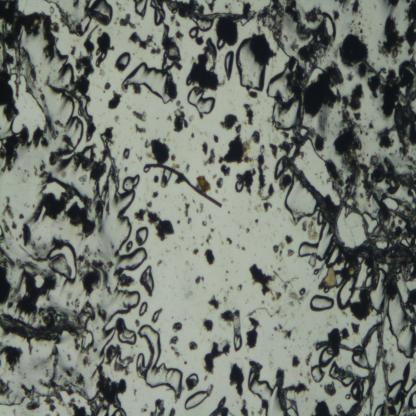Air bubble: (135, 323, 182, 397), (6, 70, 49, 144), (99, 281, 144, 336), (283, 175, 321, 226), (389, 291, 416, 360), (244, 370, 284, 416), (125, 62, 170, 102), (234, 37, 265, 93), (47, 240, 81, 284), (116, 189, 139, 253), (109, 247, 153, 278), (298, 224, 332, 261), (56, 6, 92, 36), (186, 86, 216, 119), (266, 69, 294, 103), (270, 99, 301, 128), (48, 46, 74, 80), (369, 270, 388, 310), (337, 277, 355, 310), (89, 2, 113, 26), (39, 180, 66, 200), (307, 294, 334, 314), (387, 376, 403, 408), (140, 265, 156, 296), (183, 390, 208, 409), (360, 212, 378, 233), (63, 193, 84, 211), (119, 324, 136, 346), (306, 66, 323, 87), (224, 50, 235, 82), (80, 327, 93, 353), (326, 246, 340, 268), (115, 51, 131, 70), (381, 196, 400, 212), (122, 175, 141, 191), (318, 348, 332, 368), (272, 155, 282, 182), (352, 352, 367, 370), (133, 0, 148, 17), (311, 365, 325, 383), (136, 226, 148, 246), (32, 273, 46, 289), (324, 16, 335, 36), (197, 19, 212, 33), (162, 55, 174, 72), (286, 396, 297, 414), (297, 124, 310, 138), (138, 300, 148, 317), (233, 334, 242, 351), (153, 6, 161, 24), (233, 180, 243, 194), (215, 36, 225, 50), (151, 309, 161, 323), (341, 375, 353, 386), (83, 146, 92, 160), (189, 28, 199, 40), (162, 167, 172, 178), (188, 373, 198, 384), (125, 241, 133, 252), (298, 287, 306, 296), (143, 165, 150, 173), (314, 268, 320, 275), (345, 394, 352, 400)
Background material: (339, 200, 416, 297), (371, 61, 416, 154), (326, 112, 368, 211), (285, 2, 331, 63), (0, 0, 43, 65), (376, 0, 416, 59), (301, 64, 343, 119), (185, 37, 223, 93), (370, 154, 416, 198), (75, 244, 113, 297), (36, 356, 74, 406), (15, 274, 56, 320), (218, 124, 262, 164), (93, 363, 128, 409), (340, 30, 372, 80), (0, 124, 31, 172), (73, 143, 107, 186), (75, 35, 97, 97), (99, 124, 119, 192), (40, 6, 64, 61), (29, 192, 68, 224), (66, 201, 96, 240), (258, 1, 285, 44), (256, 144, 276, 202), (160, 23, 184, 69), (203, 339, 232, 375), (0, 66, 18, 123), (0, 247, 16, 306), (92, 186, 112, 233), (145, 209, 175, 240), (96, 27, 114, 77), (104, 344, 133, 375), (350, 286, 374, 322), (165, 0, 205, 21), (249, 264, 275, 296), (47, 144, 72, 175), (73, 299, 95, 334), (216, 14, 240, 46), (0, 342, 23, 375), (340, 81, 364, 111), (19, 45, 37, 83), (147, 136, 170, 164), (372, 124, 394, 153), (15, 258, 46, 278), (234, 168, 256, 196), (271, 131, 293, 158), (273, 233, 294, 260), (20, 384, 41, 411), (273, 269, 298, 291), (48, 253, 70, 278), (244, 317, 260, 351), (127, 30, 154, 50), (207, 396, 234, 416), (318, 266, 337, 294), (30, 236, 49, 263), (229, 363, 244, 397), (275, 366, 287, 408), (89, 392, 110, 416), (32, 160, 53, 184), (113, 267, 135, 289), (162, 71, 178, 101), (302, 3, 324, 24), (62, 12, 83, 33), (272, 323, 296, 341), (247, 306, 282, 318), (281, 382, 310, 396), (31, 354, 53, 372), (74, 370, 88, 397), (300, 218, 318, 239), (32, 126, 50, 147), (174, 108, 188, 134), (312, 398, 332, 416), (68, 398, 88, 416), (197, 173, 214, 194), (246, 358, 263, 379), (219, 112, 238, 130), (288, 288, 305, 308), (118, 13, 137, 30), (2, 197, 16, 220), (107, 89, 122, 110), (348, 18, 364, 37), (314, 131, 326, 156), (0, 378, 14, 399), (150, 398, 166, 416), (244, 102, 256, 126), (149, 0, 165, 17), (202, 148, 217, 166), (206, 292, 221, 309), (220, 310, 234, 328), (96, 303, 108, 324), (22, 222, 32, 246), (280, 174, 294, 191), (43, 395, 56, 413), (204, 248, 216, 266), (254, 202, 272, 214), (324, 379, 336, 397), (333, 0, 352, 11), (115, 316, 126, 335), (233, 309, 241, 335), (132, 109, 148, 122), (37, 88, 47, 108), (50, 236, 64, 250), (170, 344, 183, 359), (245, 85, 258, 100), (220, 162, 232, 178), (202, 317, 214, 333), (133, 208, 147, 221), (61, 365, 75, 378), (62, 134, 74, 149), (350, 320, 361, 336), (240, 397, 249, 416), (26, 336, 34, 357), (110, 406, 126, 416), (258, 399, 268, 415), (335, 403, 347, 416), (81, 355, 92, 369), (121, 146, 132, 160), (2, 218, 11, 235), (270, 290, 282, 302), (200, 140, 209, 156), (351, 110, 362, 123), (104, 260, 115, 273), (50, 343, 60, 357), (206, 0, 216, 14), (291, 354, 301, 368), (351, 7, 363, 18), (134, 123, 146, 134), (168, 335, 180, 345), (116, 0, 126, 12), (331, 8, 340, 21), (53, 119, 66, 128), (205, 232, 213, 246), (206, 384, 214, 398), (195, 35, 205, 46), (174, 29, 184, 40), (172, 321, 182, 332), (188, 340, 197, 352), (151, 44, 160, 56), (341, 327, 349, 340), (160, 175, 168, 188), (174, 100, 184, 110), (344, 72, 354, 82), (77, 174, 87, 184), (195, 274, 204, 285), (133, 84, 142, 95), (71, 298, 80, 309), (196, 202, 204, 214), (236, 281, 244, 293), (51, 130, 59, 142), (0, 224, 5, 243), (183, 203, 190, 216), (174, 176, 184, 185), (71, 0, 80, 10), (6, 300, 15, 310), (74, 337, 80, 351), (306, 352, 312, 366), (306, 371, 312, 385), (216, 177, 223, 189), (140, 404, 150, 412), (226, 285, 234, 295), (236, 243, 246, 251), (287, 248, 295, 258), (172, 161, 180, 170), (11, 394, 17, 406), (184, 291, 193, 299), (70, 45, 76, 57), (187, 113, 194, 123), (66, 290, 73, 300), (213, 134, 219, 145), (12, 220, 18, 231), (166, 114, 174, 122), (44, 368, 51, 377), (225, 3, 232, 12), (104, 82, 111, 91), (153, 174, 159, 184), (306, 328, 312, 338), (170, 406, 176, 416), (48, 4, 54, 14), (145, 151, 152, 159), (136, 154, 143, 162), (226, 237, 233, 245), (192, 248, 199, 256), (18, 212, 25, 220), (144, 138, 149, 149), (114, 115, 120, 124), (182, 192, 187, 202), (185, 164, 190, 174), (146, 201, 153, 208), (152, 190, 158, 198), (222, 295, 228, 303), (254, 217, 260, 225), (134, 318, 140, 326), (126, 104, 132, 111), (171, 154, 176, 162), (66, 352, 71, 360), (184, 259, 189, 267), (92, 346, 97, 354), (187, 218, 192, 226), (157, 260, 162, 268), (203, 374, 208, 382), (178, 236, 184, 242), (134, 388, 138, 397), (123, 166, 129, 172), (202, 220, 207, 227), (212, 172, 217, 179), (171, 16, 176, 23), (115, 17, 119, 25), (210, 226, 215, 232), (5, 244, 10, 250), (245, 228, 250, 234), (214, 189, 219, 194), (176, 21, 181, 26), (190, 133, 195, 138), (176, 219, 181, 224), (250, 410, 254, 416), (192, 198, 196, 204), (13, 408, 16, 416), (66, 301, 70, 307), (19, 232, 22, 240), (95, 326, 99, 331), (184, 360, 188, 365), (45, 412, 50, 416), (208, 214, 212, 219), (224, 277, 228, 282), (35, 349, 39, 353), (55, 412, 59, 416), (24, 372, 26, 379), (200, 243, 204, 246), (225, 270, 228, 274)
Cellulose filter fibre: (346, 299, 390, 416), (291, 57, 315, 162), (52, 83, 95, 141), (314, 316, 386, 350), (0, 314, 73, 343), (185, 9, 256, 26)
Microfibre: (147, 163, 223, 209)
